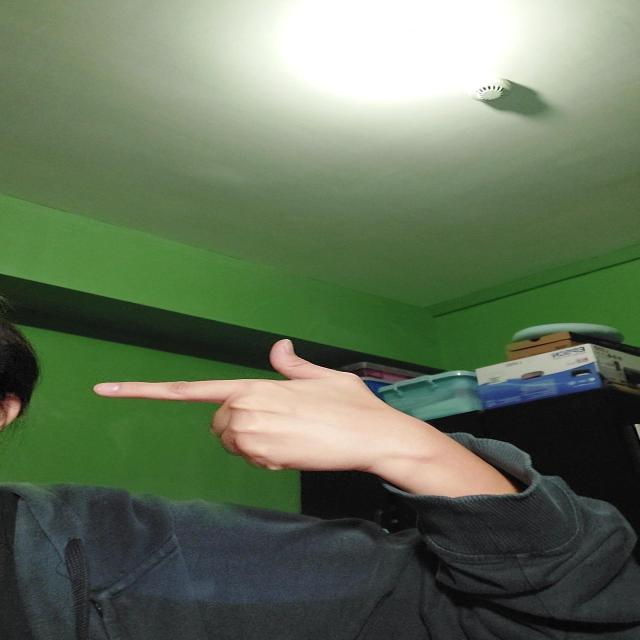G: (92, 339, 405, 470)
